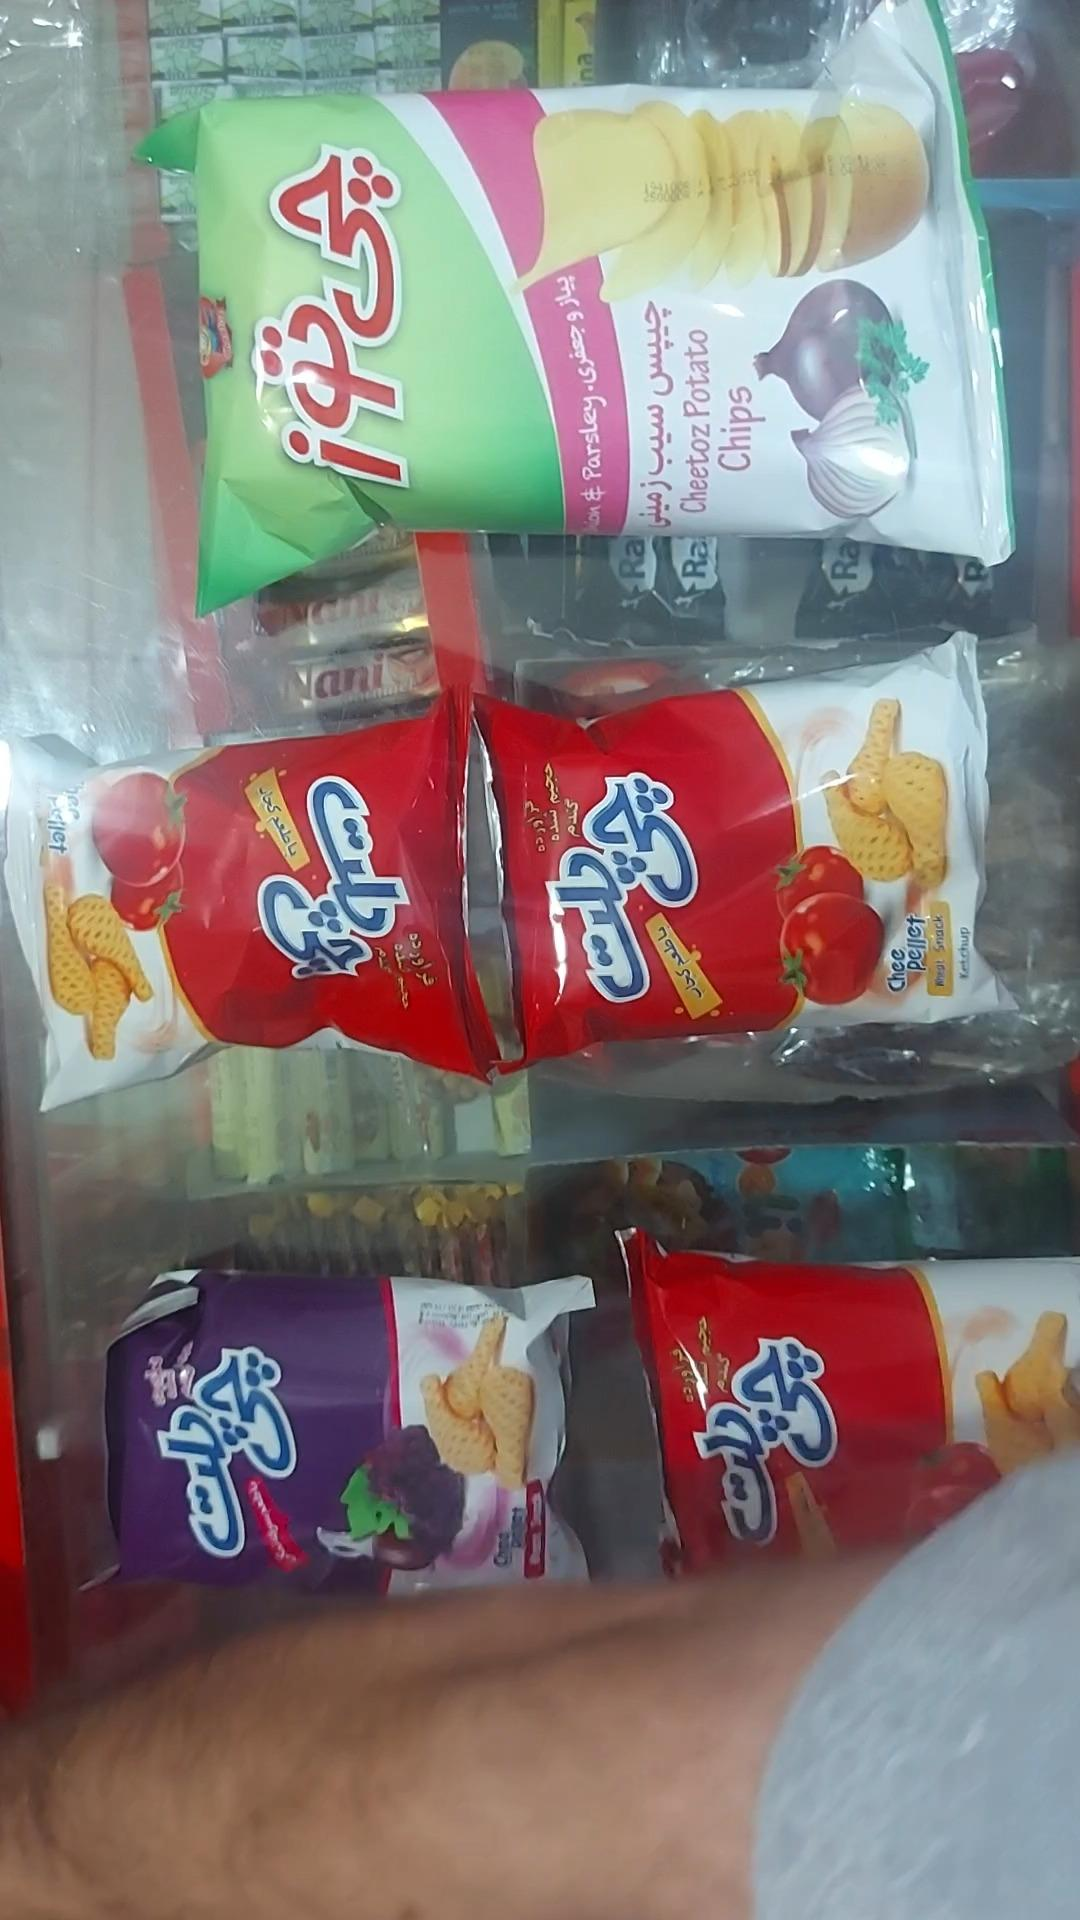Chee pellet ketchup: (473, 632, 1002, 1069), (3, 690, 502, 1112), (616, 1228, 1079, 1581)
Chee pellet vinegar: (100, 1269, 596, 1604)
Cheetoz onion and parsley chips: (137, 0, 1019, 617)
